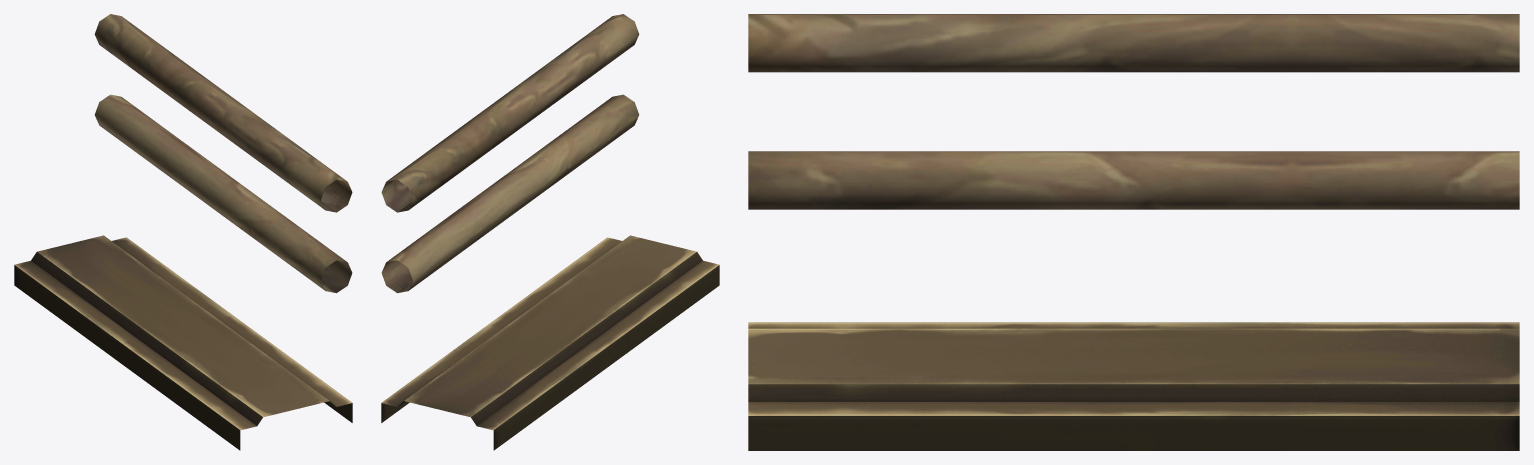
File: trap_445_xbfence_03.fbx
3 renders of one model, left to right at view 1: azimuth 30°, elevation 25°; view 2: azimuth 150°, elevation 25°; view 3: azimuth 270°, elevation 25°, orthographic. The views are drawn at different scales.
Visible parts, largest first — view 1: trap_445_xbfence_03; view 2: trap_445_xbfence_03; view 3: trap_445_xbfence_03.
Part boxes in pixels (left/top/right/bottom): trap_445_xbfence_03: left=14, top=14, right=352, bottom=450; trap_445_xbfence_03: left=381, top=14, right=719, bottom=450; trap_445_xbfence_03: left=748, top=14, right=1519, bottom=450.
Bounding box in the file's own units: 0.2116 × 0.446 × 0.7382.
Materials: 1 (1 with a texture image).
